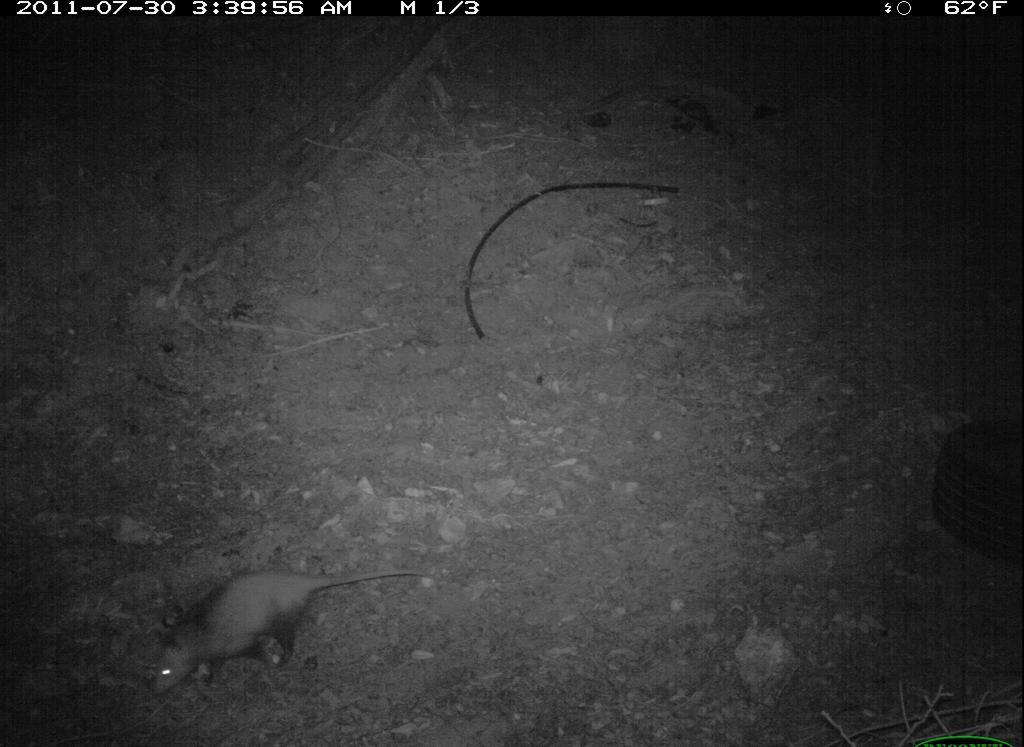opossum: (134, 553, 442, 685)
